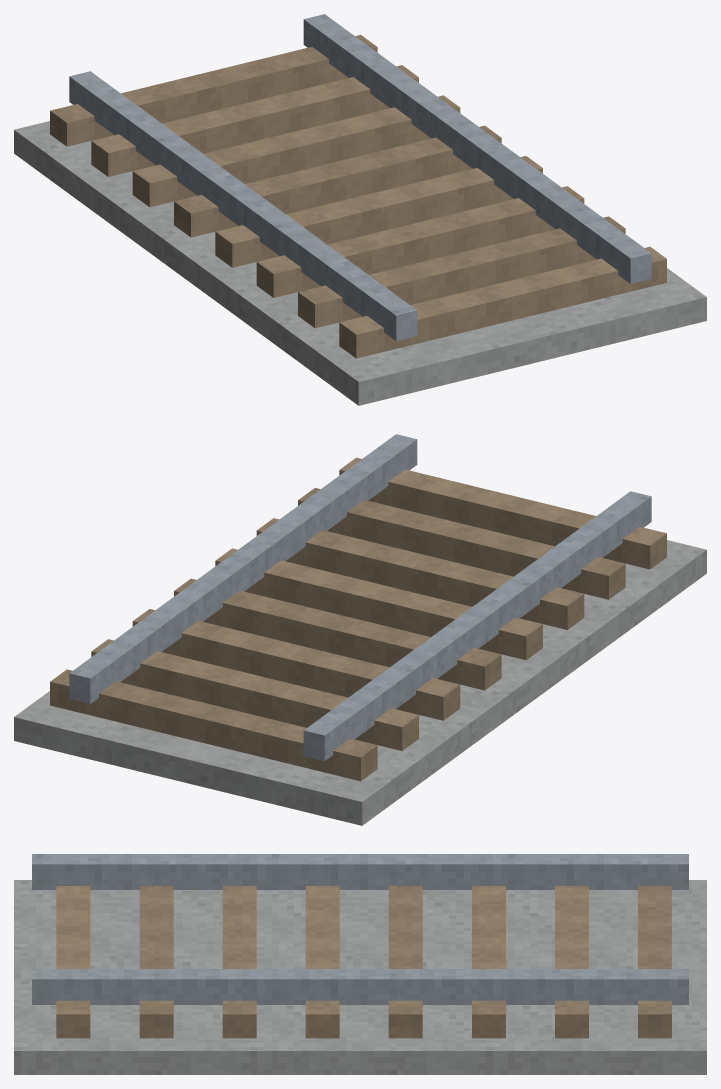
Rendered from level_blockout_rail_straight_track_bay.glb.
3 renders of one model, top to bottom at view 1: azimuth 30°, elevation 25°; view 2: azimuth 150°, elevation 25°; view 3: azimuth 270°, elevation 25°, orthographic.
Visible parts, largest first — view 1: level_blockout_rail_straight_track_bay; view 2: level_blockout_rail_straight_track_bay; view 3: level_blockout_rail_straight_track_bay.
Boxes of the visible parts, x1,y1,x2,y2 form: level_blockout_rail_straight_track_bay: (14, 14, 706, 405); level_blockout_rail_straight_track_bay: (14, 434, 706, 825); level_blockout_rail_straight_track_bay: (14, 854, 706, 1074).
Bounding box in the file's own units: 2.14 × 0.425 × 3.67.
Materials: 3 (3 with a texture image).
